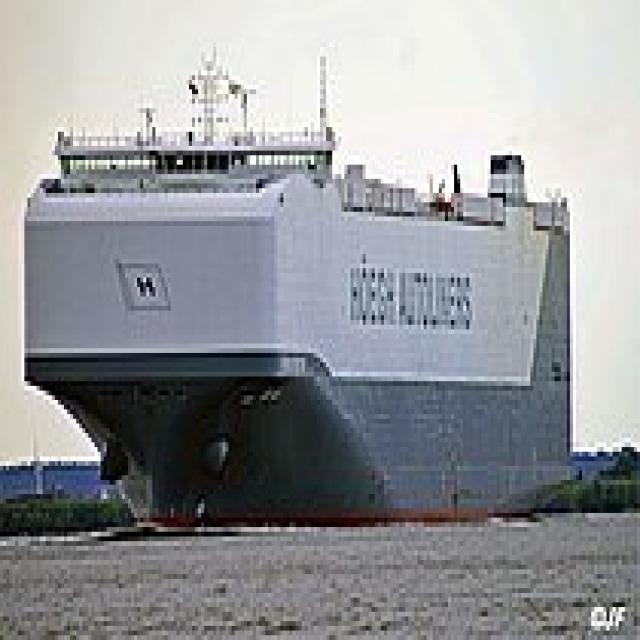Carrier: (15, 33, 576, 532)
